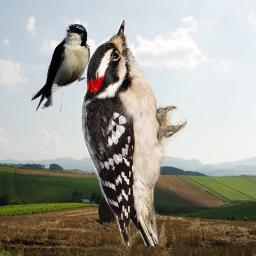Swallow: (31, 24, 90, 112)
Woodpecker: (81, 19, 187, 246)
